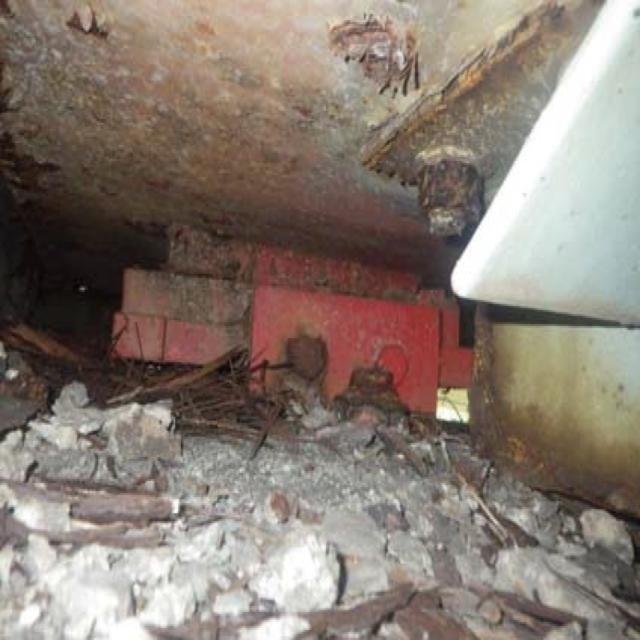corrosion: (116, 223, 507, 454), (327, 20, 512, 207)
